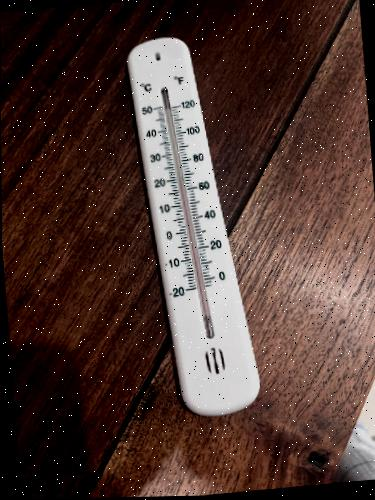thermo: (110, 32, 266, 422)
